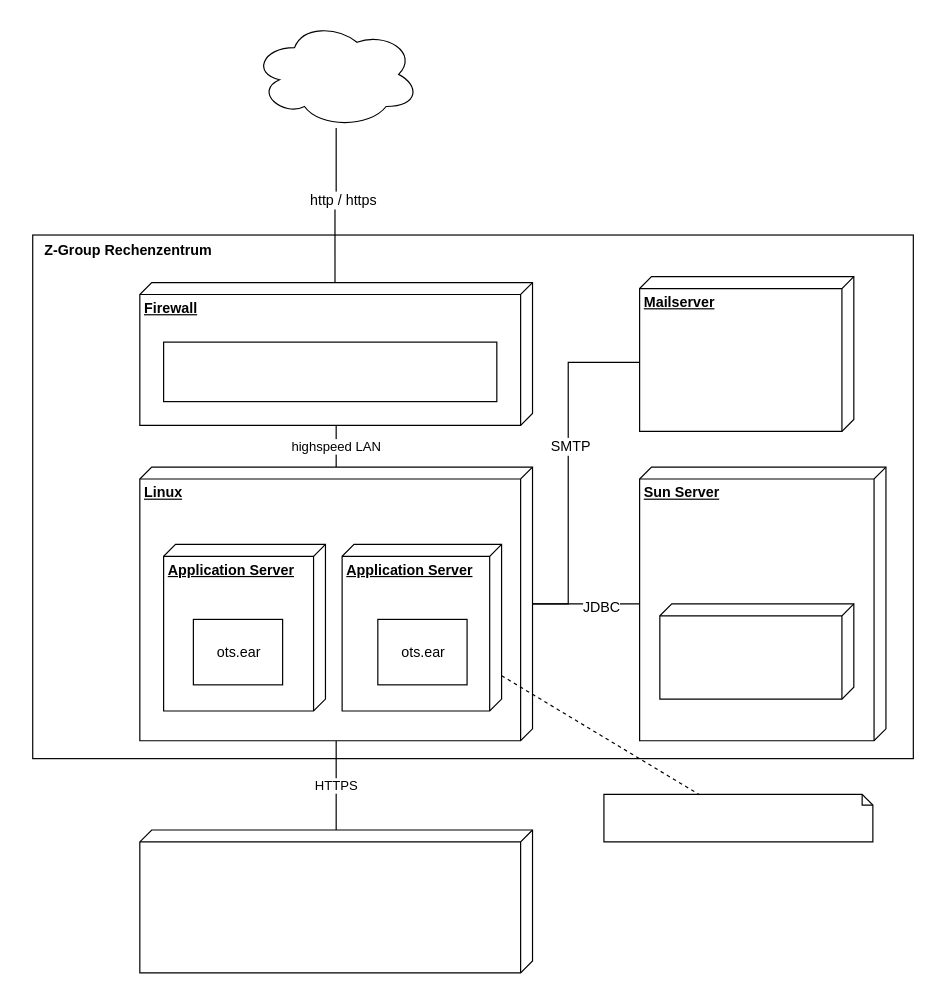
This 934x994 diagram has some shape labels left out. The shapes that lost their labels are listed below. From the top down, each one's centre as x and y in pixels, then its label:
At point (335, 74): "Internet".
At point (329, 371): "Web Application Firewall".
At point (756, 651): "Oracle DB 12c".
At point (738, 817): "Eigene Instanz für BoxOffice-Nutzer. Der Server läuft dabei mit höher Priorität".
At point (336, 901): "Paymentsystem".
